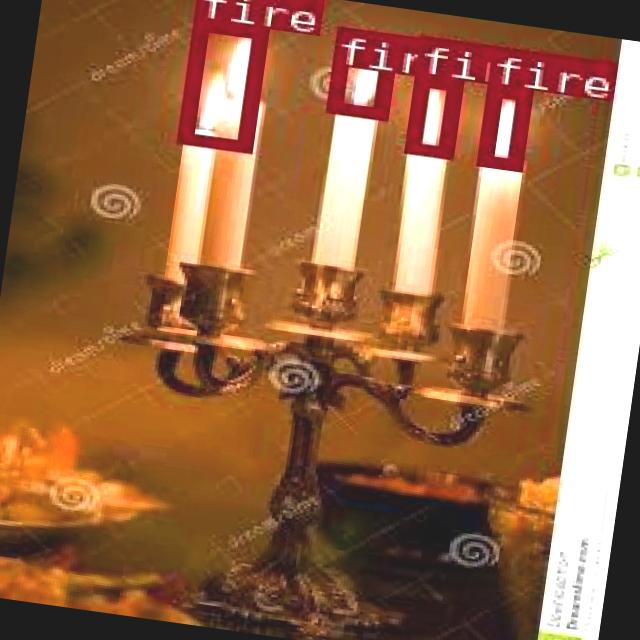fire: (175, 18, 266, 150), (326, 26, 394, 117), (403, 72, 459, 156), (476, 84, 528, 168)
